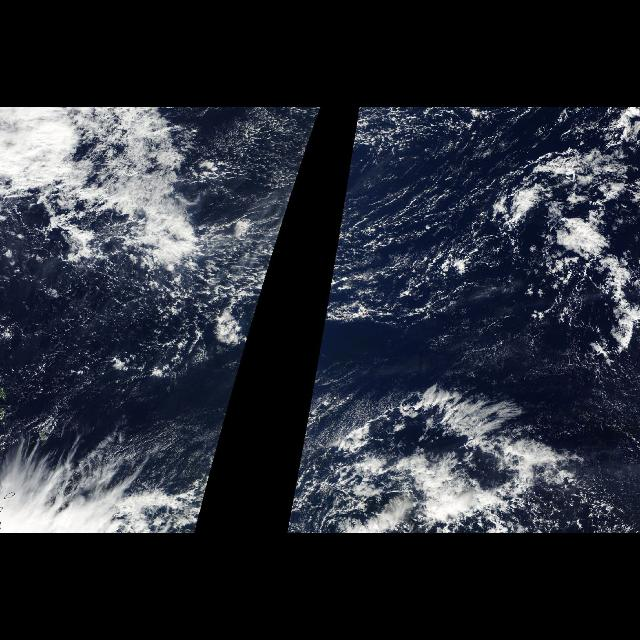Fish: (293, 388, 579, 526)
